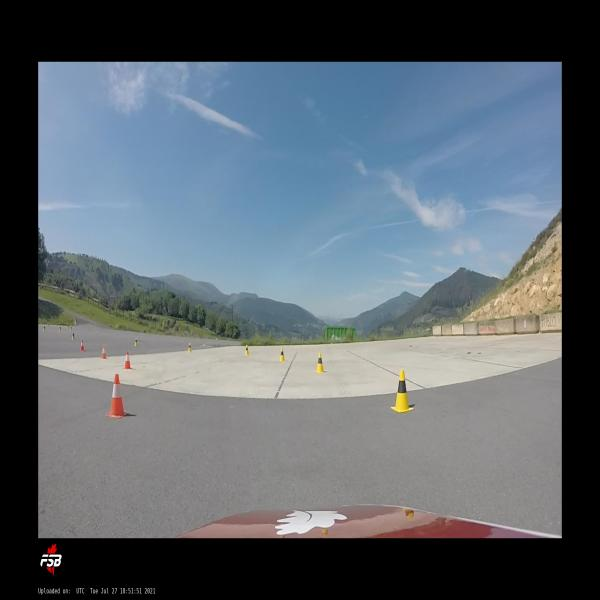orange_cone: (106, 374, 129, 418), (124, 350, 132, 370), (101, 345, 108, 360), (80, 339, 86, 352)
yellow_cone: (390, 370, 415, 413), (316, 353, 324, 373), (279, 347, 285, 362), (134, 338, 139, 347), (245, 345, 249, 355), (188, 343, 192, 352), (72, 332, 76, 340), (43, 326, 46, 332)
